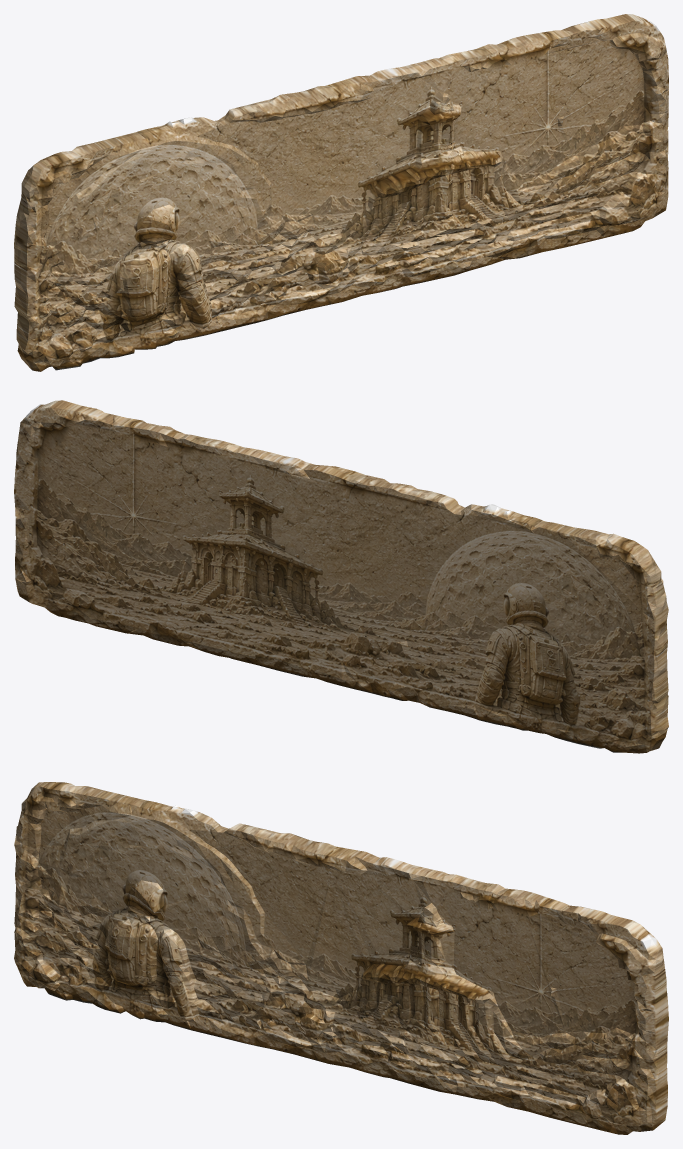
The model's file is cosmic.glb.
3 renders of one model, top to bottom at view 1: azimuth 30°, elevation 25°; view 2: azimuth 150°, elevation 25°; view 3: azimuth 330°, elevation 25°, orthographic.
Parts seen in each view (by area): view 1: Mesh_0.001; view 2: Mesh_0.001; view 3: Mesh_0.001.
Part boxes in pixels (left/top/right/bottom): Mesh_0.001: left=14, top=14, right=668, bottom=371; Mesh_0.001: left=14, top=400, right=668, bottom=753; Mesh_0.001: left=14, top=782, right=668, bottom=1134.
Bounding box in the file's own units: 2 × 0.6375 × 0.1096.
Materials: 1 (1 with a texture image).
